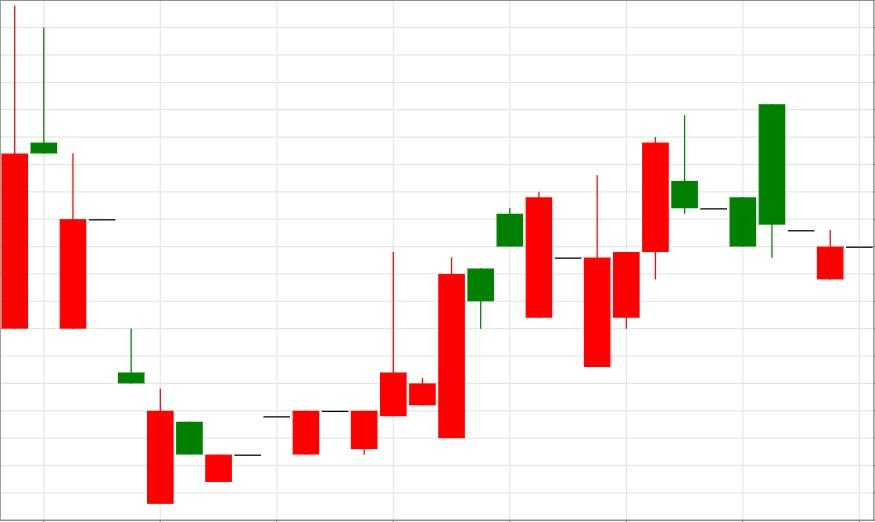shooting_star_fall: (582, 115, 699, 368)
